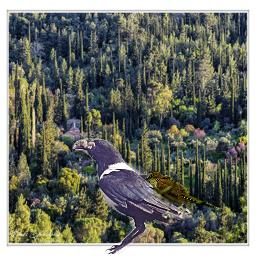Crow: (72, 138, 196, 254)
Cuckoo: (144, 171, 218, 209)
